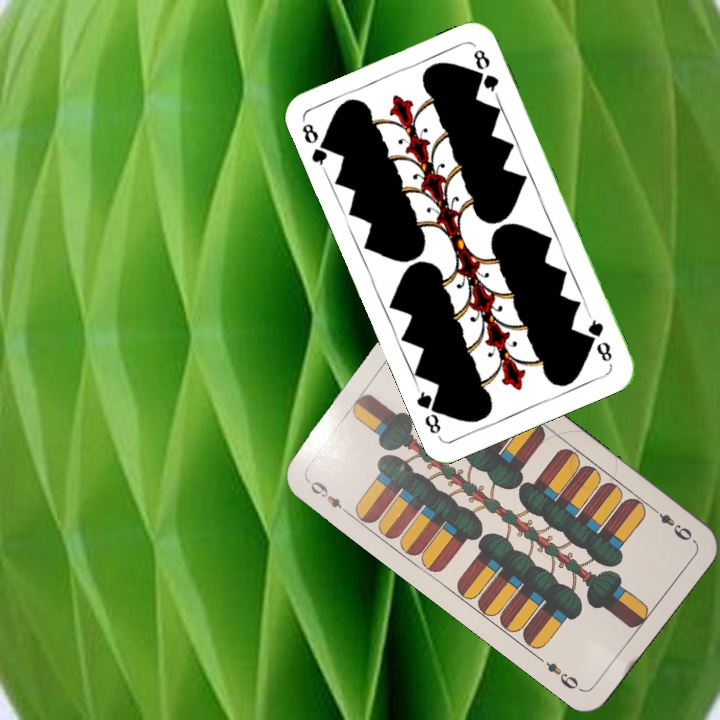E9: (302, 475, 352, 518), (647, 502, 695, 544)
G8: (297, 117, 335, 174), (584, 311, 615, 365)
